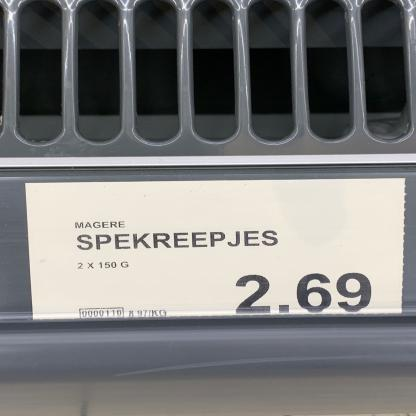prtg: (25, 179, 407, 322)
